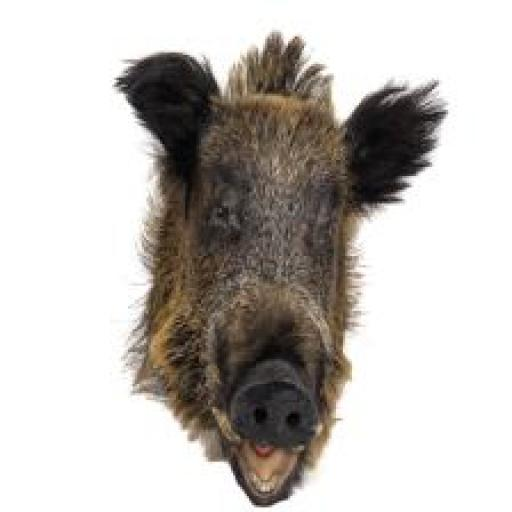Pig: (112, 30, 448, 504)
